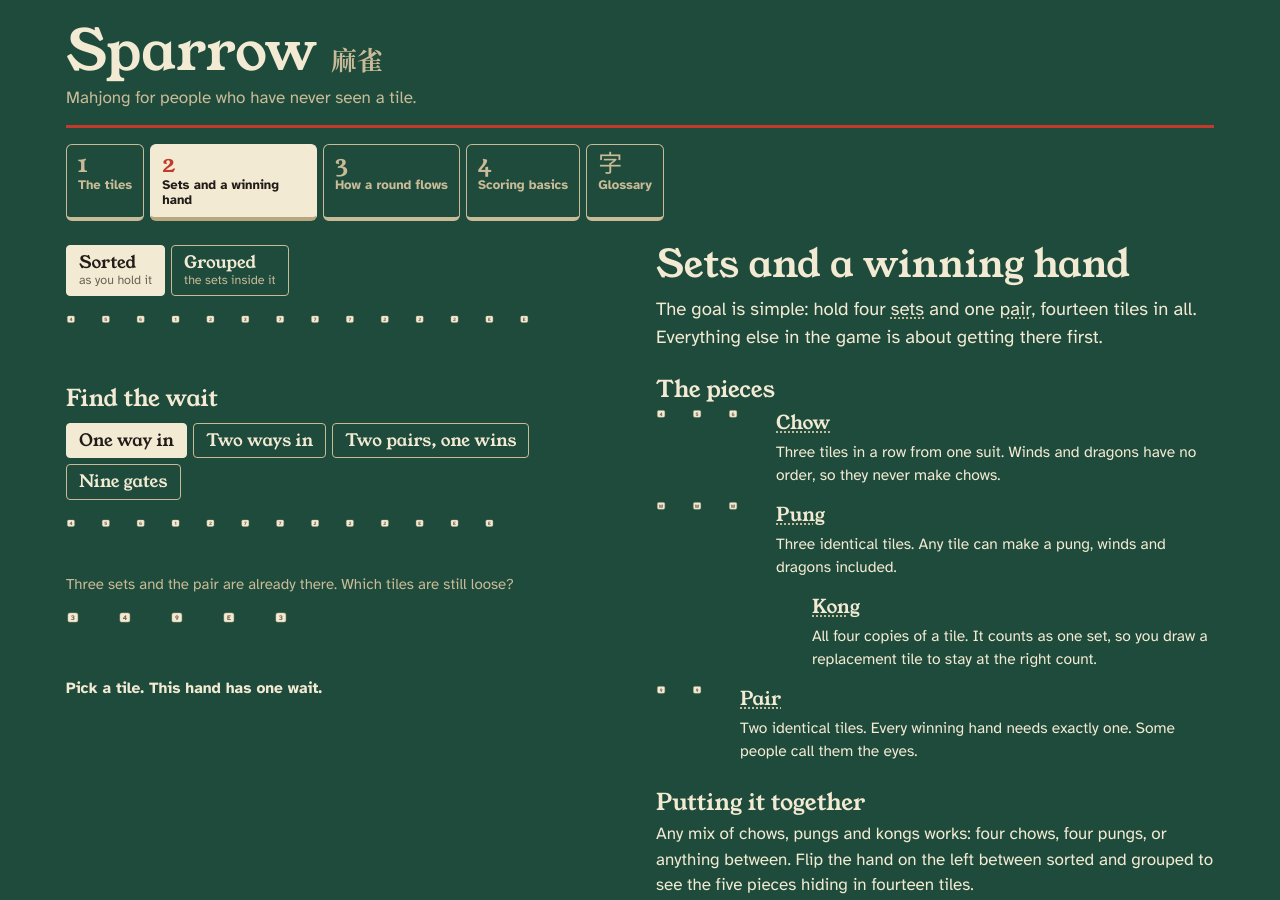
Test: App › finds a wait and shows the sets
Step 1. Click the button named "Four of dots" → x=141, y=638, box [118,610,164,666]
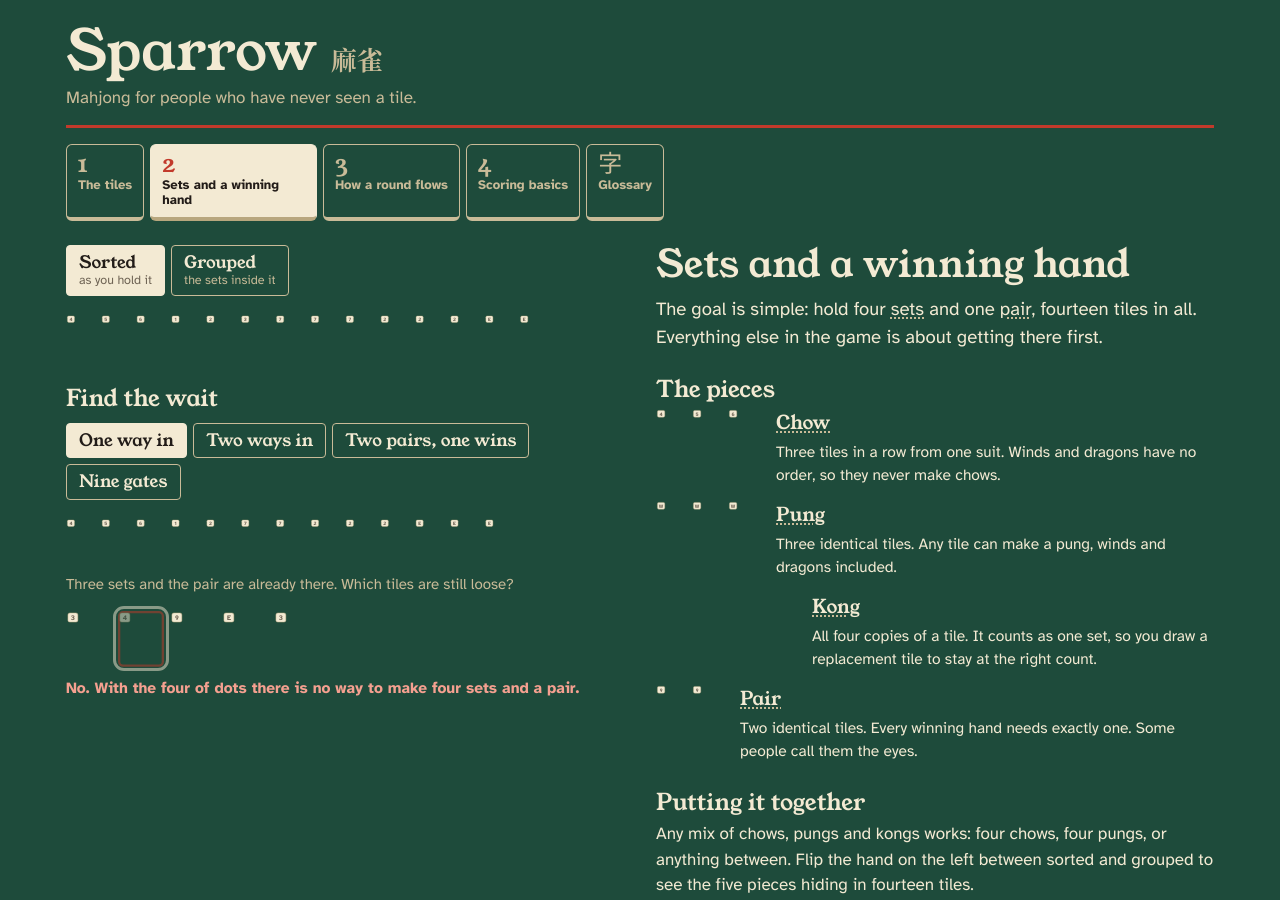
Check: the text "there is no way to make four sets" is shown, box [247,678,579,697]
Step 2. Click the button named "Three of dots" → x=89, y=638, box [66,610,112,666]
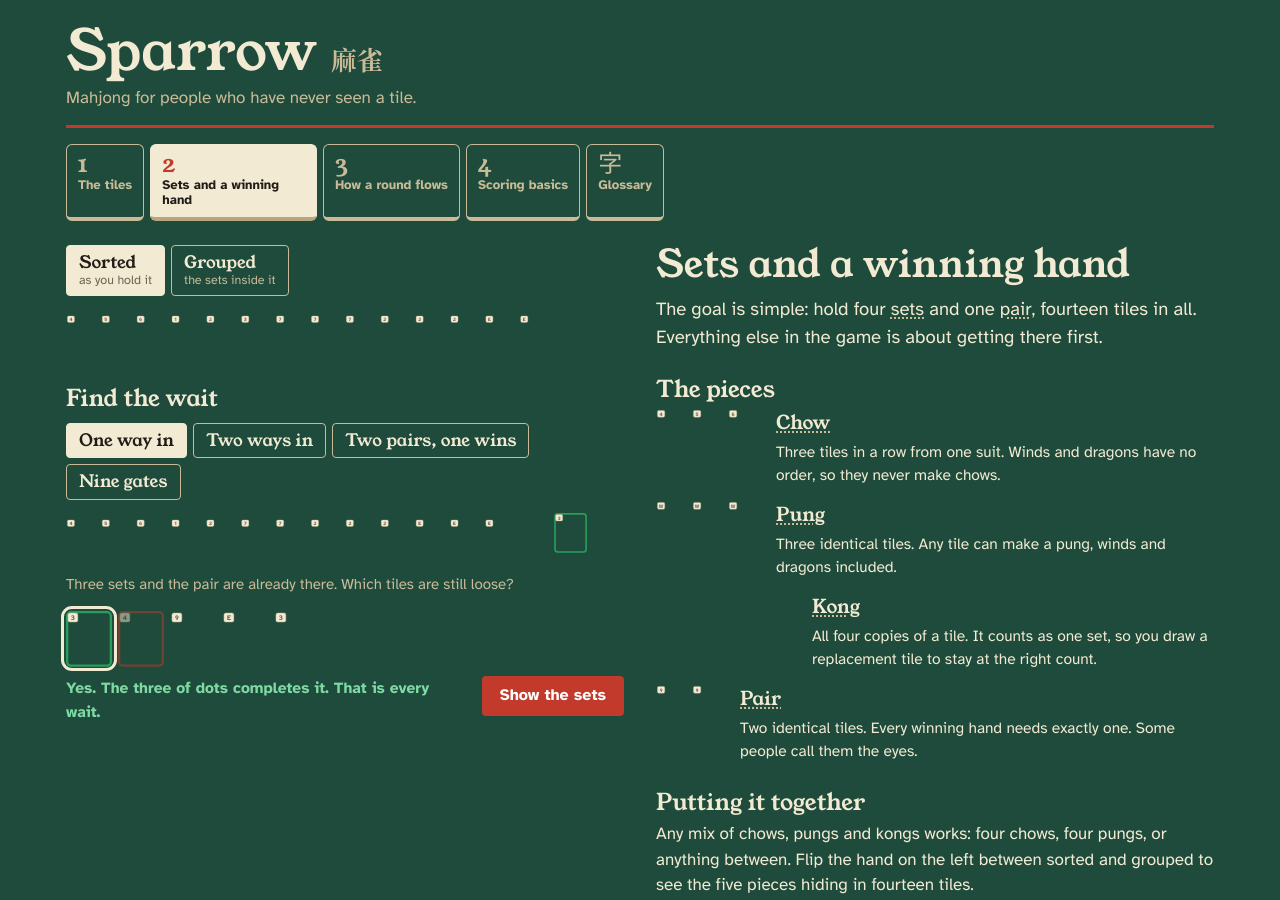
Check: the text "Yes. The three of dots completes it. That is every wait." is shown, box [66,678,429,721]
Step 3. Click the button "Show the sets" → x=553, y=696, box [482,676,624,716]
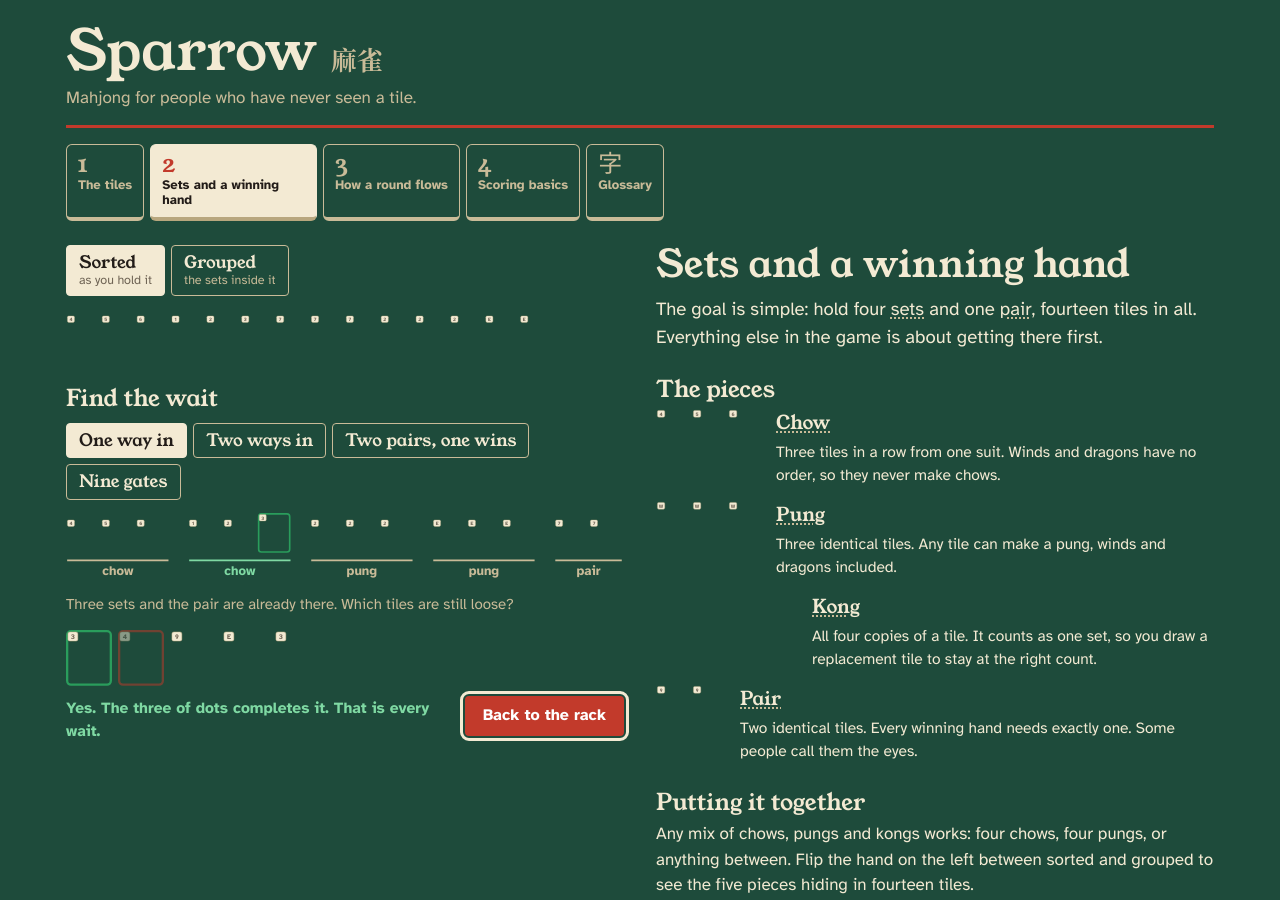
Check: the button "Back to the rack" is shown, box [465,696,624,736]
